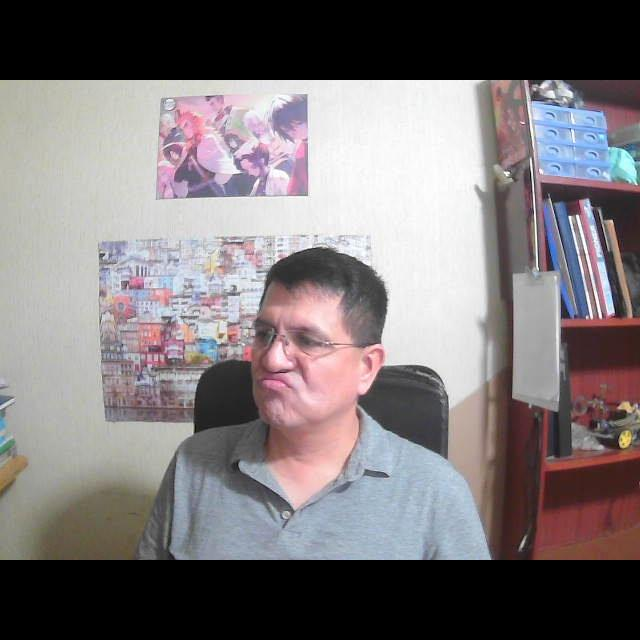cesar: (228, 232, 398, 473)
